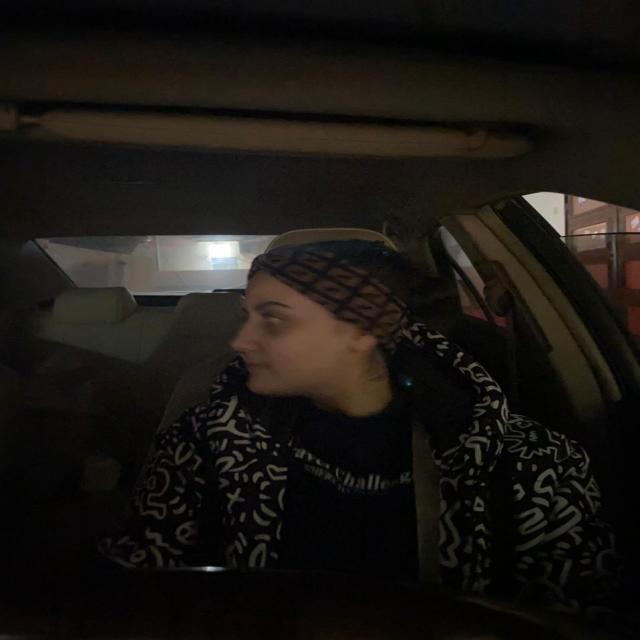LeftRight: (224, 237, 450, 399)
